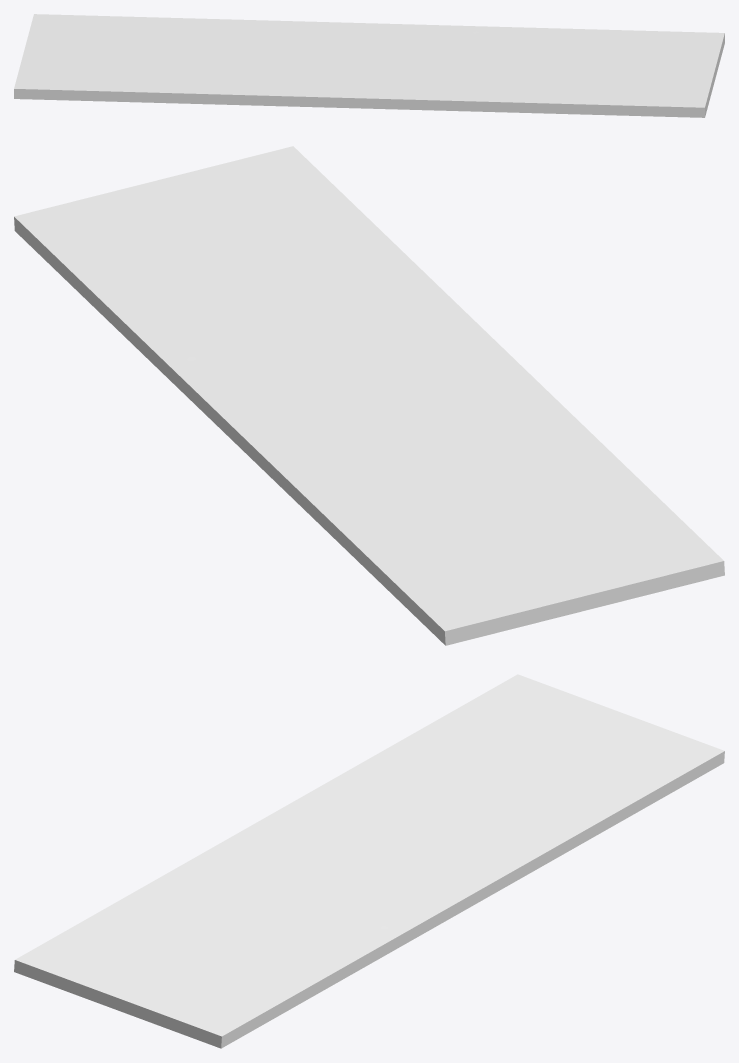
3 views of the same model, one above another, from view 1: azimuth 30°, elevation 25°; view 2: azimuth 150°, elevation 25°; view 3: azimuth 270°, elevation 25° (orthographic). The views are drawn at different scales.
Visible parts, largest first — view 1: Box001; view 2: Box001; view 3: Box001.
Boxes of the visible parts, x1=… form: Box001: x1=14, y1=14, x2=724, y2=117; Box001: x1=14, y1=146, x2=724, y2=645; Box001: x1=14, y1=674, x2=724, y2=1048.
Size of the model in its own units: 0.6265 by 0.0309 by 0.5226.
1 material, 1 textured.
